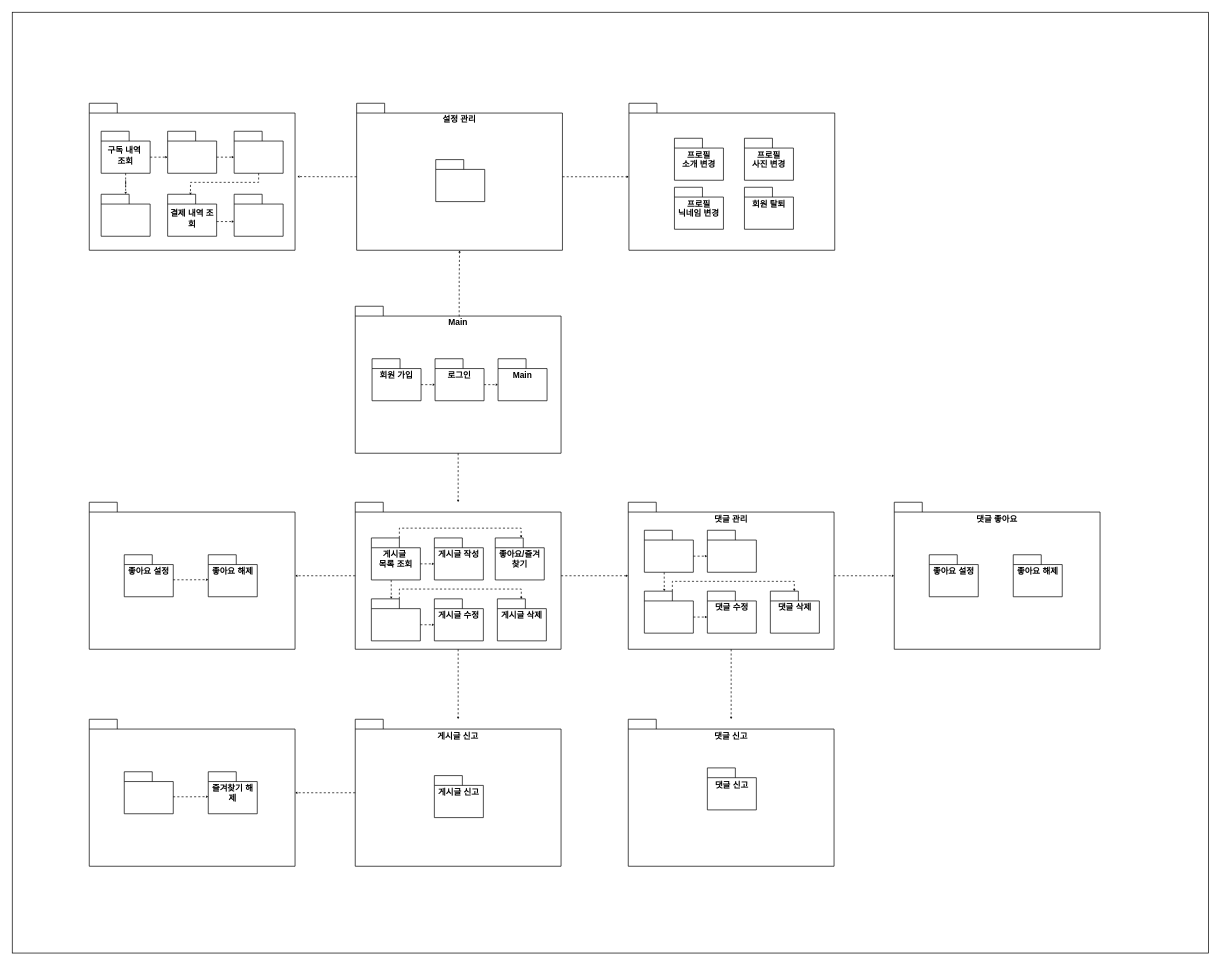
The diagram is 1221 pixels wide and 965 high, and some of its shapes have lost their labels. Here are the shapes that lost their labels. From the top down, the box of each, then its label:
(167, 131, 217, 173): 구독 신청
(233, 131, 283, 173): 결제
(89, 103, 295, 250): 구독 관리
(435, 159, 485, 202): 설정
(628, 103, 835, 250): 계정 설정
(100, 194, 150, 236): 구독 취소
(233, 194, 283, 236): 환불 신청
(644, 530, 693, 572): 댓글 목록 조회
(707, 530, 756, 572): 댓글 작성
(89, 502, 295, 649): 게시글 좋아요
(355, 502, 561, 649): 게시글 관리
(371, 598, 420, 641): 개별 게시글 조회
(644, 590, 693, 633): 개별 댓글 조회
(124, 771, 173, 814): 즐겨찾기 설정
(89, 719, 295, 866): 게시글 즐겨찾기
